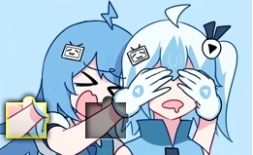gap: (86, 97, 126, 138)
